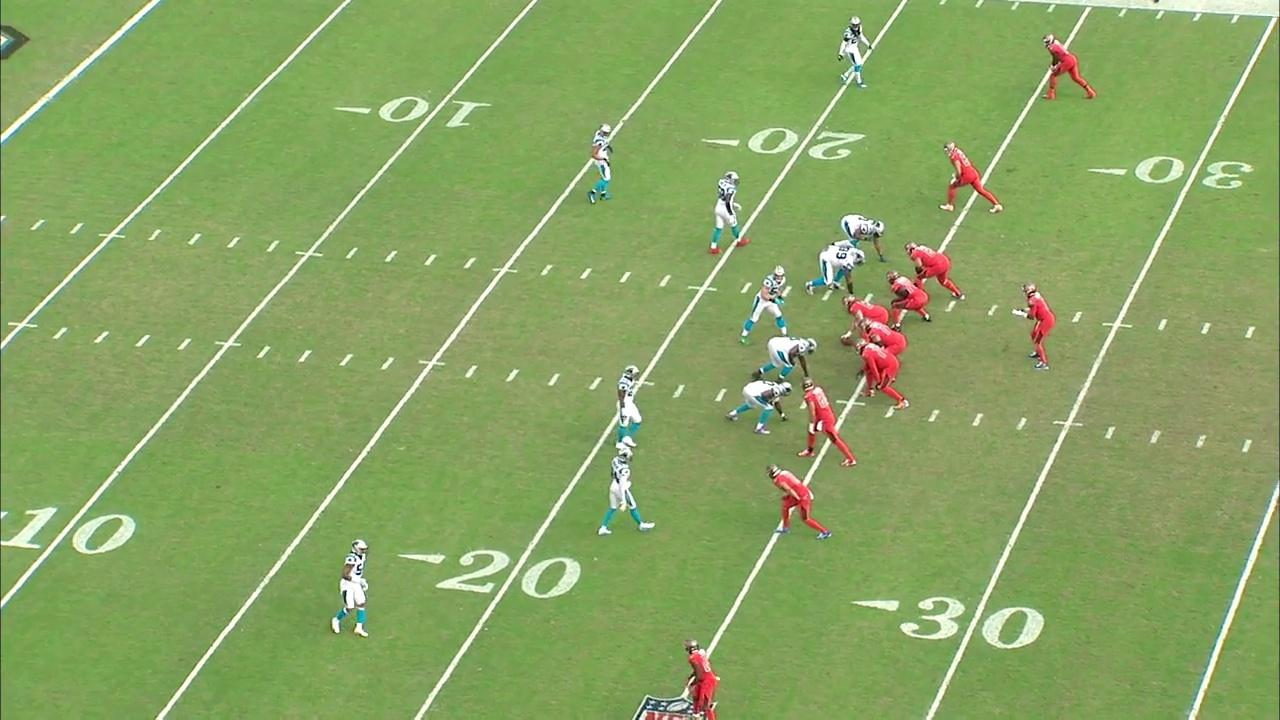defense: (597, 444, 657, 538), (330, 535, 377, 641), (737, 263, 792, 348), (706, 168, 753, 258), (723, 378, 795, 436), (803, 243, 868, 301), (751, 335, 819, 389), (828, 211, 889, 266), (834, 14, 878, 89), (612, 362, 645, 452), (586, 122, 618, 207)
oline: (852, 336, 912, 412), (903, 240, 967, 303), (857, 315, 910, 385), (884, 268, 934, 334), (839, 293, 892, 349)
qb: (1010, 279, 1060, 372)
skill: (795, 374, 859, 470), (763, 461, 833, 542), (938, 139, 1005, 216), (1040, 32, 1097, 103), (681, 635, 720, 720)
